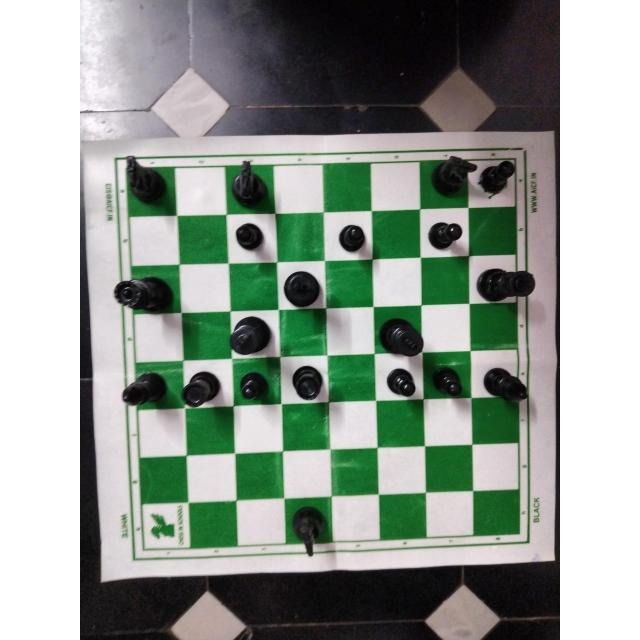black-bishop: (477, 358, 529, 412), (117, 370, 173, 409)
black-king: (466, 255, 540, 309), (376, 308, 432, 360), (226, 313, 278, 356), (279, 262, 325, 310)
black-knight: (425, 148, 479, 204), (120, 150, 170, 210), (287, 500, 331, 558), (226, 161, 273, 212)
black-pawn: (230, 219, 270, 260), (477, 157, 517, 197), (430, 364, 472, 402), (425, 216, 466, 254), (381, 364, 420, 402), (334, 217, 371, 256), (237, 367, 271, 406)
black-queen: (112, 275, 180, 319)
black-rook: (181, 365, 225, 413), (291, 363, 331, 402)
